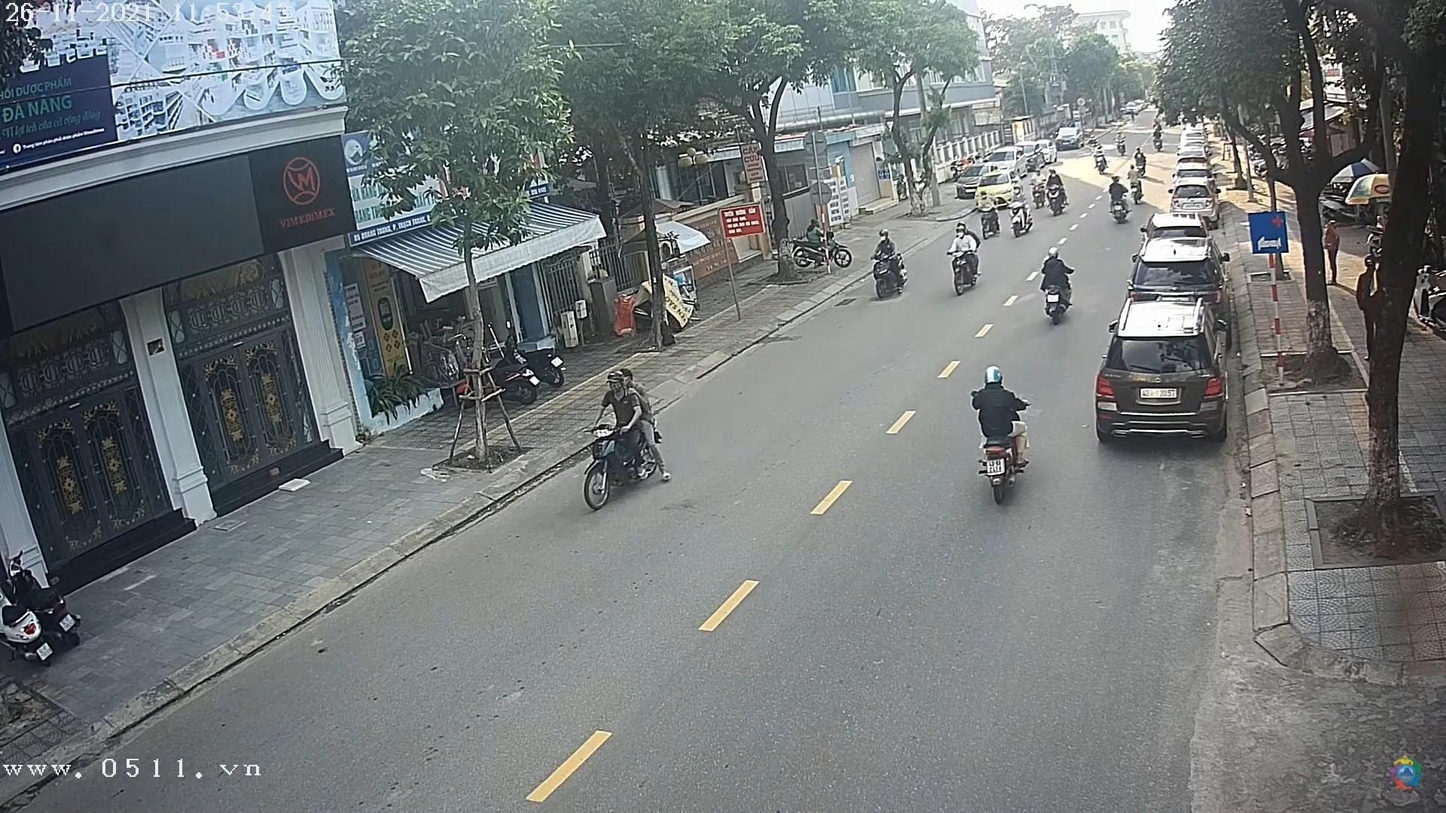car: (1097, 303, 1227, 444), (1129, 237, 1226, 302)
motorbike: (578, 420, 665, 512), (976, 419, 1031, 496), (871, 249, 909, 308), (1038, 277, 1075, 332), (950, 248, 984, 297), (1010, 200, 1036, 239), (1048, 183, 1067, 220)
